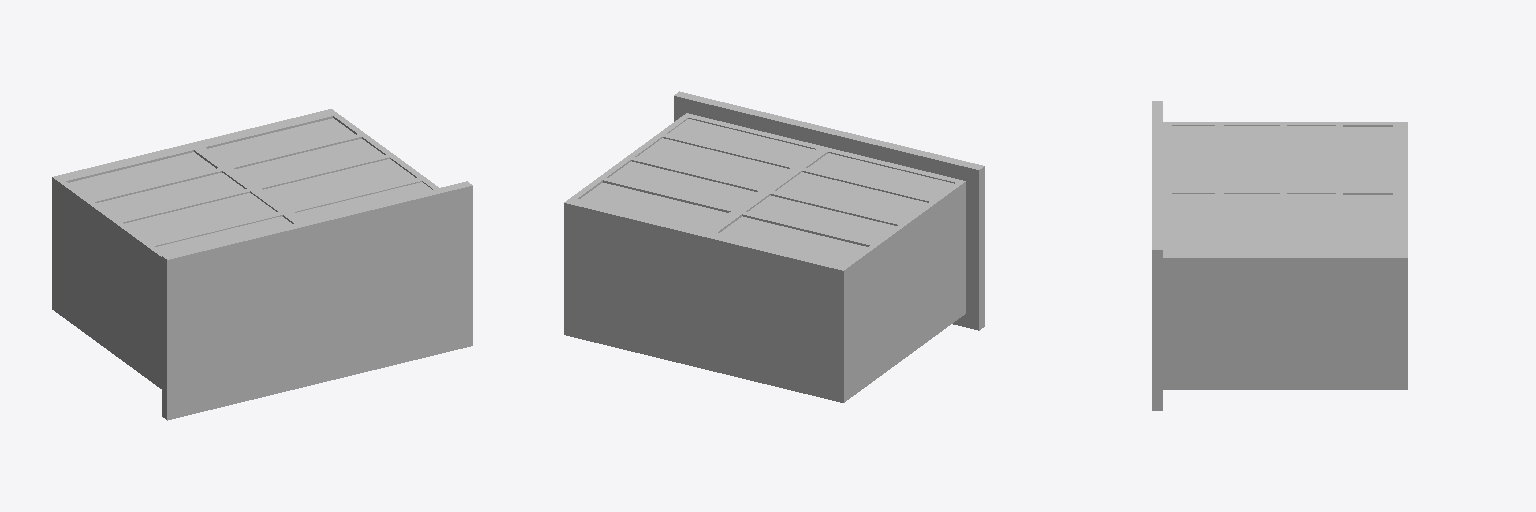
Rendered from drawer.obj.
The picture shows the model from 3 angles: view 1: azimuth 30°, elevation 25°; view 2: azimuth 150°, elevation 25°; view 3: azimuth 270°, elevation 25°; orthographic projection.
Parts seen in each view (by area): view 1: Cube.003_Cube.004; view 2: Cube.003_Cube.004; view 3: Cube.003_Cube.004.
Part boxes in pixels (left/top/right/bottom): Cube.003_Cube.004: left=52, top=109, right=472, bottom=420; Cube.003_Cube.004: left=564, top=91, right=984, bottom=402; Cube.003_Cube.004: left=1152, top=101, right=1407, bottom=410.
Bounding box in the file's own units: 6.87 × 3.45 × 5.